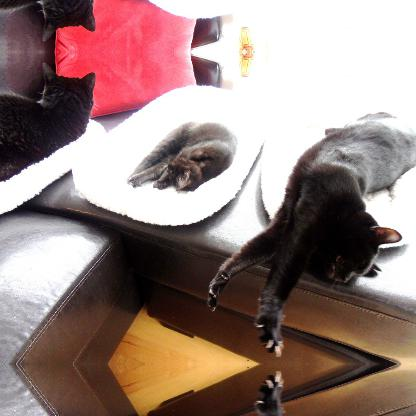Cat: (206, 112, 416, 354), (0, 62, 96, 180), (124, 121, 236, 192), (0, 0, 97, 43)
